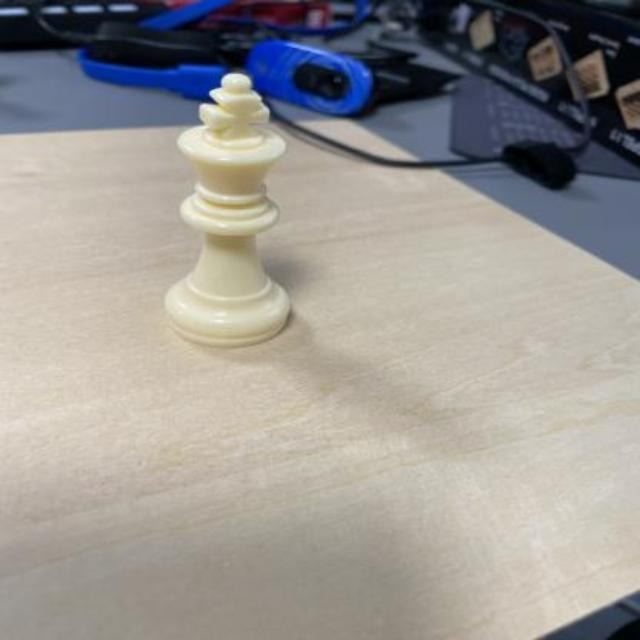white-king: (163, 73, 289, 349)
